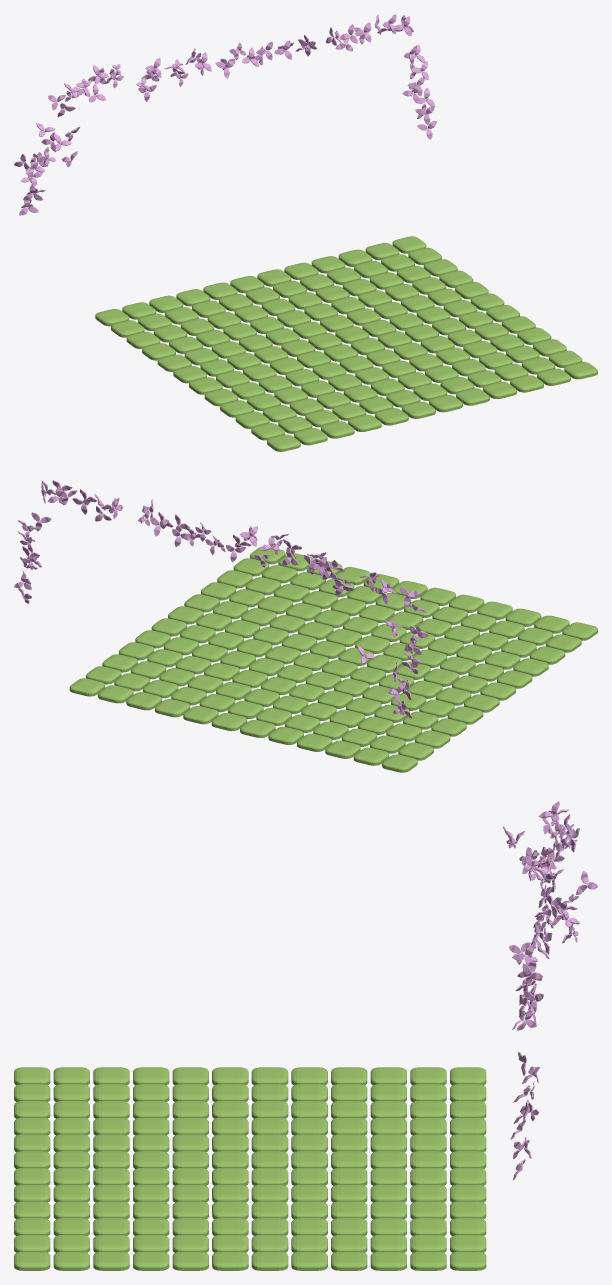
Rendered from fieldSpring.glb.
The picture shows the model from 3 angles, top to bottom: view 1: azimuth 30°, elevation 25°; view 2: azimuth 150°, elevation 25°; view 3: azimuth 270°, elevation 25°; orthographic projection. The views are drawn at different scales.
Visible parts, largest first — view 1: playfield; view 2: playfield; view 3: playfield.
Part boxes in pixels (x1=…): playfield: x1=95, y1=236, x2=597, y2=451; playfield: x1=69, y1=546, x2=597, y2=772; playfield: x1=14, y1=1067, x2=486, y2=1270.
Size of what is drawn, in the model's own units: 14.73 by 7.79 by 14.74.
